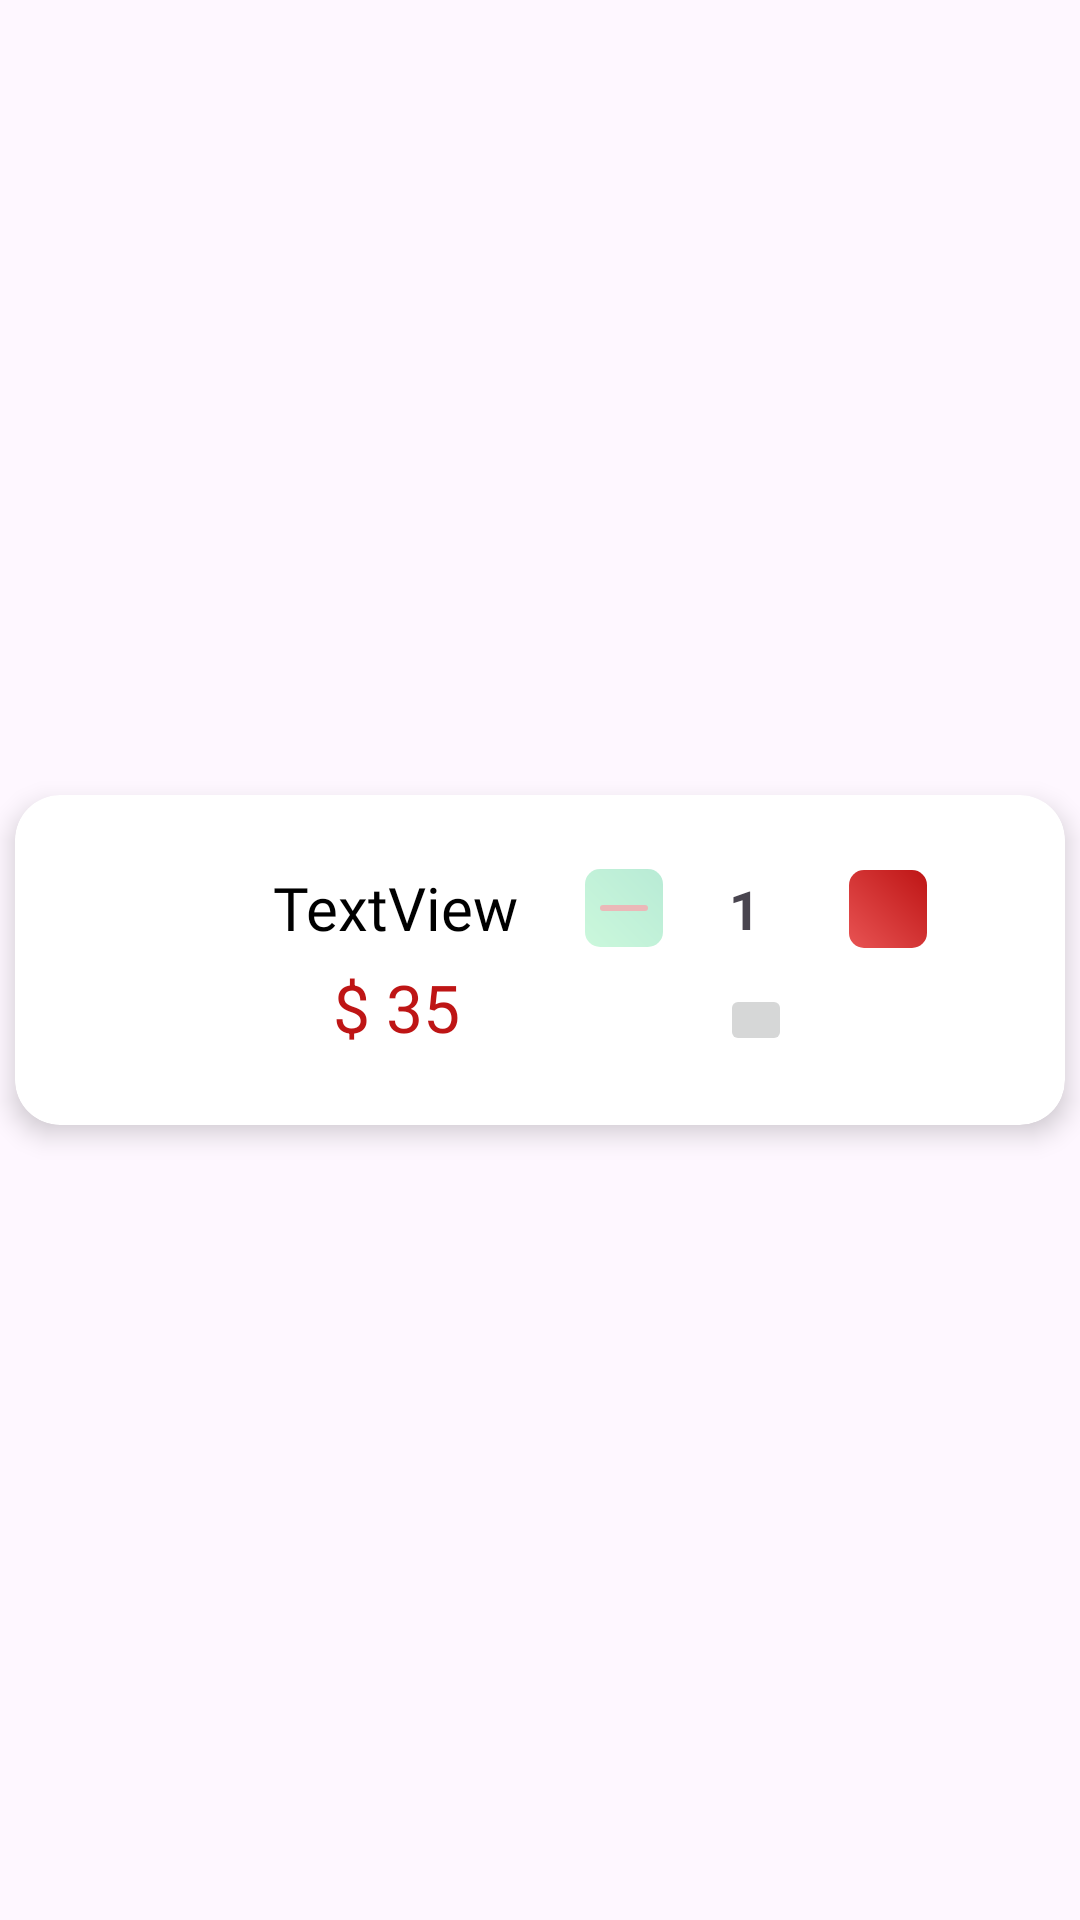

Named icons in this screenshot (1080×1920) and their bounding boxes, (x1, y1, x2, y2):
minus: (585, 869, 663, 947)
